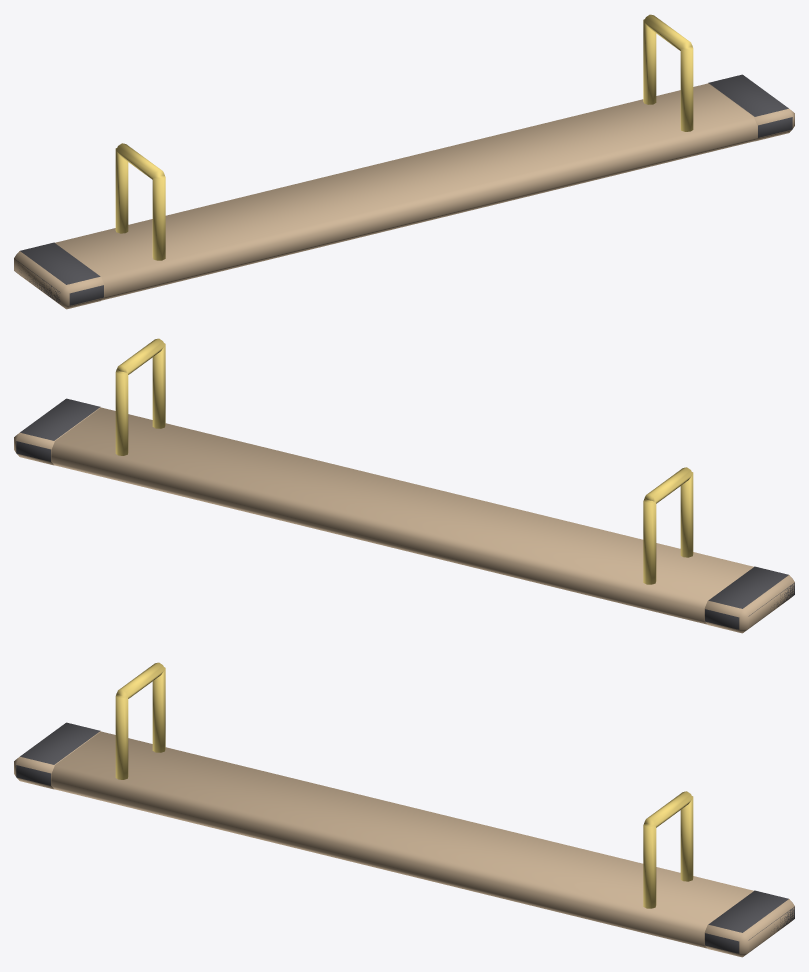
Rendered from seesaw_plank.glb.
The picture shows the model from 3 angles, top to bottom: view 1: azimuth 30°, elevation 25°; view 2: azimuth 150°, elevation 25°; view 3: azimuth 330°, elevation 25°; orthographic projection.
Visible parts, largest first — view 1: seesaw_plank; view 2: seesaw_plank; view 3: seesaw_plank.
Boxes of the visible parts, bbox=[...] form: seesaw_plank: bbox=[14, 14, 794, 309]; seesaw_plank: bbox=[14, 338, 794, 633]; seesaw_plank: bbox=[14, 662, 794, 957].
Bounding box in the file's own units: 3.2 × 0.4655 × 0.402.
